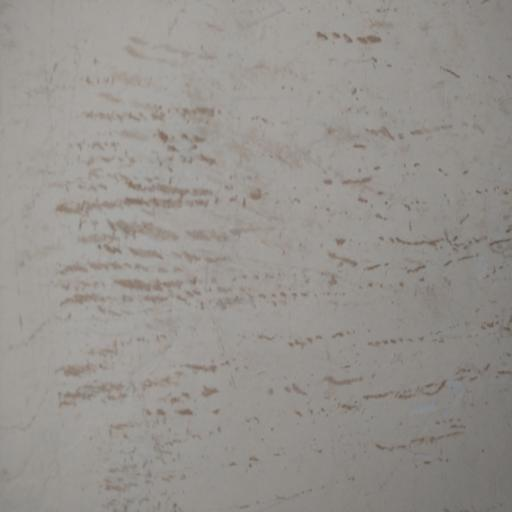stain: (65, 24, 512, 511)
